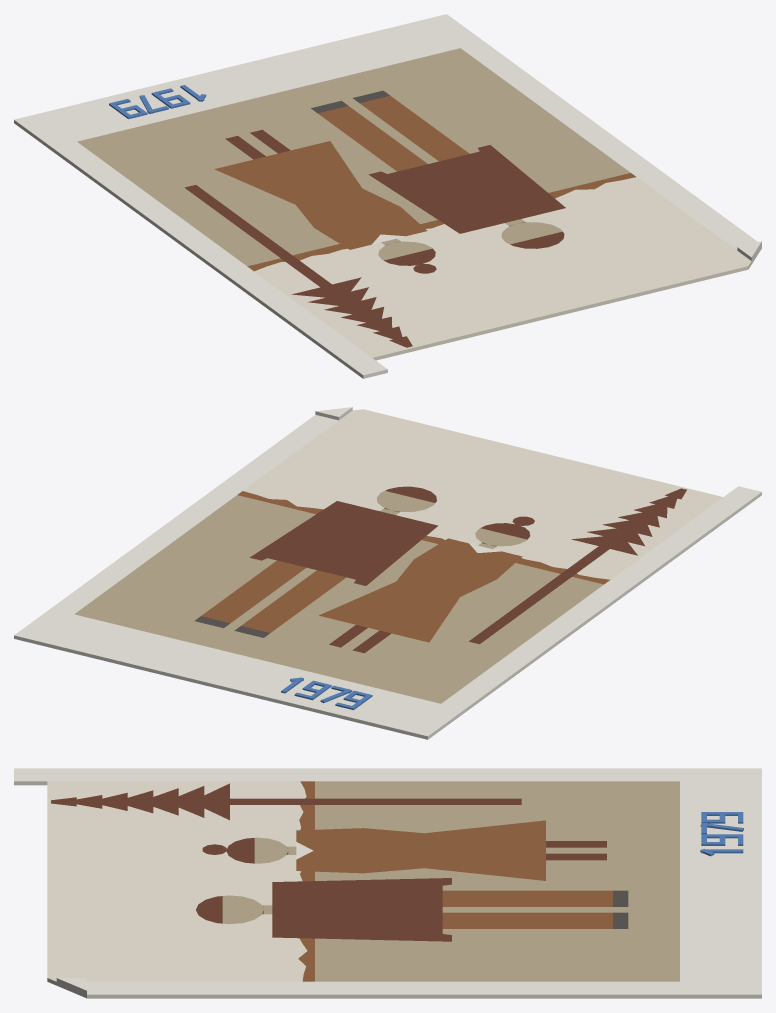
The model's file is old_photo.glb.
3 renders of one model, top to bottom at view 1: azimuth 30°, elevation 25°; view 2: azimuth 150°, elevation 25°; view 3: azimuth 270°, elevation 25°, orthographic. The views are drawn at different scales.
Parts seen in each view (by area): view 1: field, sky, card, figures, treeline; view 2: field, sky, card, figures, treeline; view 3: field, sky, card, figures, treeline.
Part boxes in pixels (x1,y1,x2,y2): field: (77,48,630,266); sky: (254,177,751,360); card: (14,14,761,378); figures: (184,90,565,347); treeline: (247,173,635,271); field: (74,495,603,703); sky: (243,409,722,579); card: (14,407,761,739); figures: (195,486,686,653); treeline: (237,491,610,584); field: (315,781,679,981); sky: (47,781,307,985); card: (14,768,761,998); figures: (51,783,628,941); treeline: (298,781,314,981).
Size of the model in its own units: 0.1056 by 0.00168 by 0.1476.
